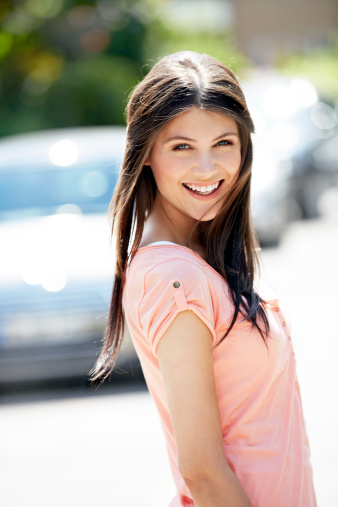em pe: (59, 52, 321, 507)
